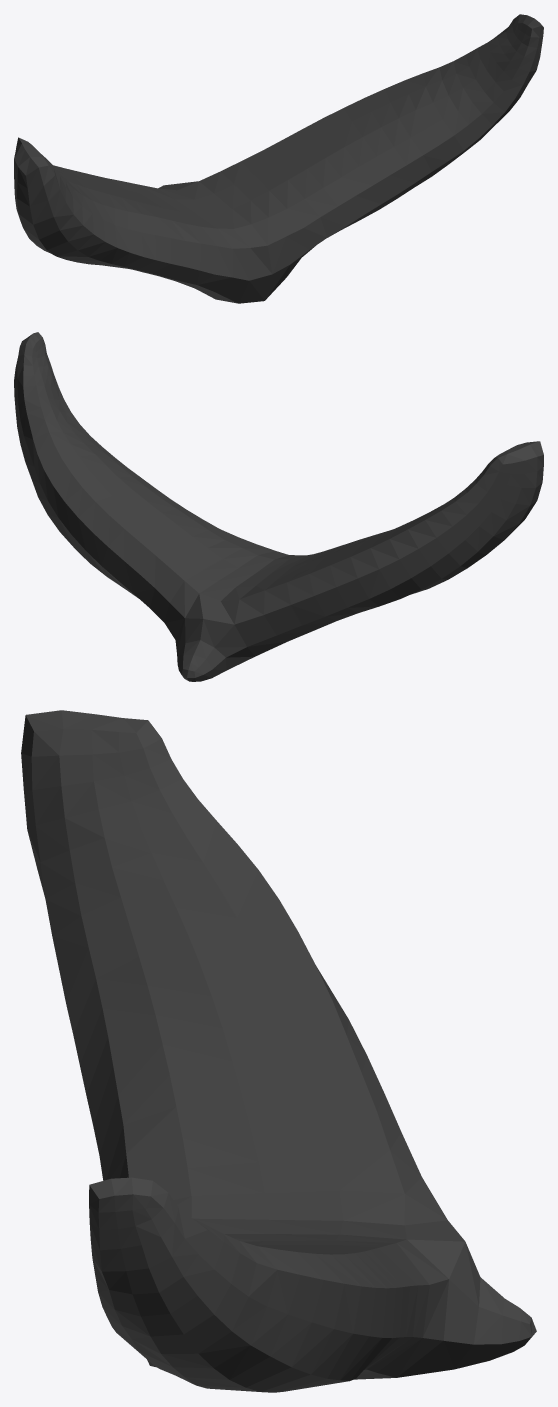
File: Prepubic_tendon.glb
The picture shows the model from 3 angles, top to bottom: view 1: azimuth 30°, elevation 25°; view 2: azimuth 150°, elevation 25°; view 3: azimuth 270°, elevation 25°; orthographic projection. The views are drawn at different scales.
Parts seen in each view (by area): view 1: Prepubic_tendon; view 2: Prepubic_tendon; view 3: Prepubic_tendon.
Part boxes in pixels (bbox=[...]): Prepubic_tendon: bbox=[14, 14, 543, 303]; Prepubic_tendon: bbox=[14, 332, 543, 681]; Prepubic_tendon: bbox=[21, 710, 536, 1392].
Size of the model in its own units: 0.2845 by 0.1196 by 0.1271.
Materials: 1 (1 with a texture image).
